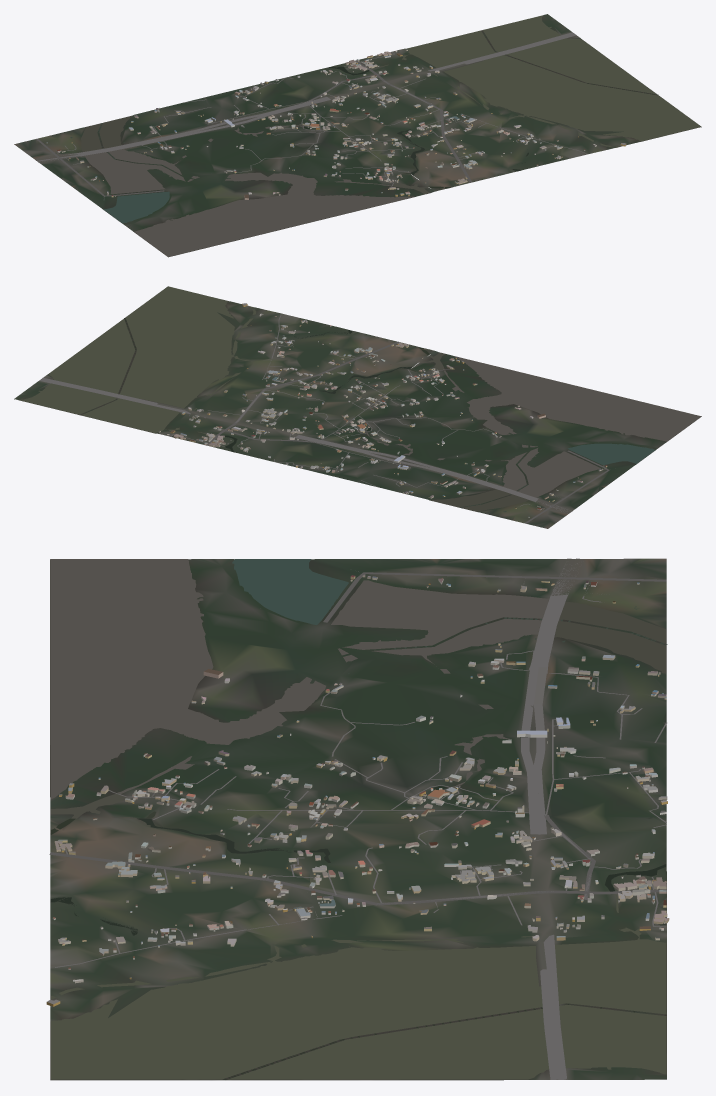
3 renders of one model, top to bottom at view 1: azimuth 30°, elevation 25°; view 2: azimuth 150°, elevation 25°; view 3: azimuth 270°, elevation 25°, orthographic. The views are drawn at different scales.
Visible parts, largest first — view 1: ground, water, buildings, roads; view 2: ground, water, buildings, roads; view 3: ground, water, buildings, roads.
Part boxes in pixels (x1,y1,x2,y2): ground: (14,14,701,257); water: (70,15,701,256); buildings: (46,49,626,199); roads: (36,32,586,199); ground: (14,287,701,528); water: (20,286,700,511); buildings: (158,303,607,517); roads: (39,314,609,523); ground: (50,558,666,1080); water: (50,559,667,1080); buildings: (46,574,669,1006); roads: (49,558,666,1079).
Bounding box in the file's own units: 2805 × 26.88 × 1414.
